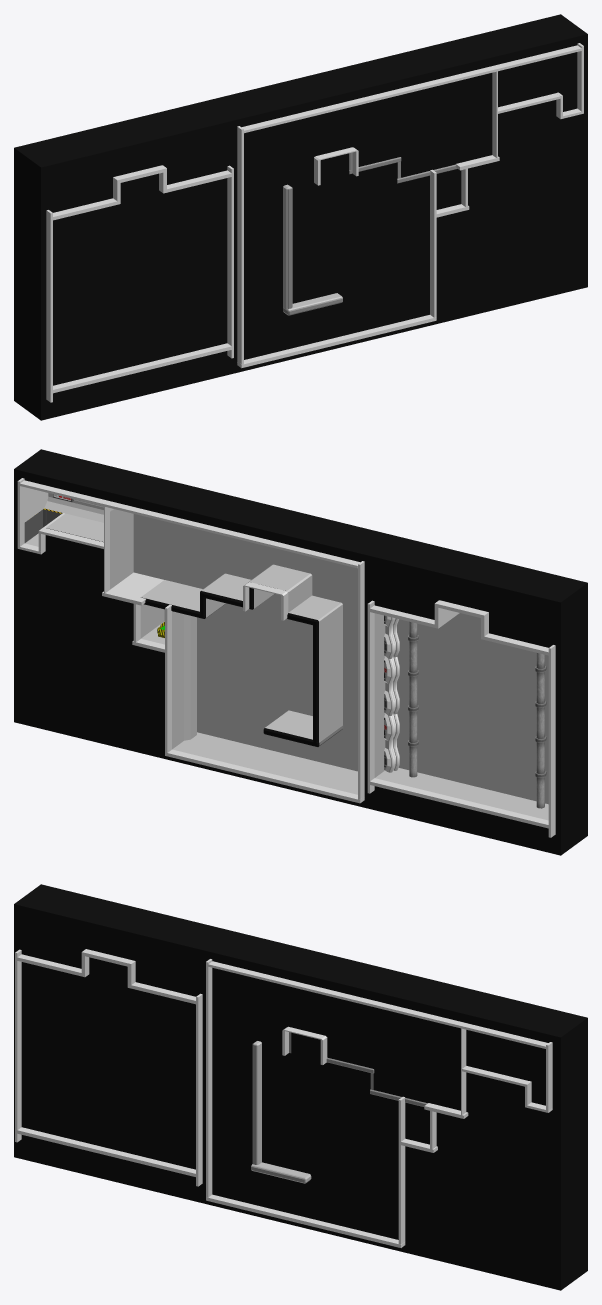
The model's file is Map_Level_3.FBX.
The picture shows the model from 3 angles, top to bottom: view 1: azimuth 30°, elevation 25°; view 2: azimuth 150°, elevation 25°; view 3: azimuth 330°, elevation 25°; orthographic projection.
Visible parts, largest first — view 1: Box066, Box084, Box087, Box092, Box094, Box093, Box095, Box067, Box088, Box068, Box096, Box097 (+1 smaller); view 2: Box066, Object038, Object039, Box067, Plane142, Box084, Box072, Box092, Box087, Box094, Box070, Box093 (+15 smaller); view 3: Box066, Box084, Box087, Box092, Box094, Box095, Box093, Box067, Box088, Box068, Box096, Box097.
Boxes of the visible parts, x1=… form: Box066: x1=14, y1=14, x2=587, y2=420; Box084: x1=242, y1=45, x2=583, y2=133; Box087: x1=237, y1=126, x2=243, y2=364; Box092: x1=237, y1=315, x2=436, y2=368; Box094: x1=46, y1=343, x2=231, y2=393; Box093: x1=46, y1=210, x2=52, y2=402; Box095: x1=227, y1=165, x2=233, y2=358; Box067: x1=283, y1=184, x2=292, y2=309; Box088: x1=430, y1=169, x2=436, y2=317; Box068: x1=283, y1=293, x2=342, y2=315; Box096: x1=159, y1=170, x2=233, y2=193; Box097: x1=46, y1=198, x2=120, y2=220; Box066: x1=14, y1=449, x2=587, y2=855; Object038: x1=110, y1=509, x2=357, y2=794; Object039: x1=374, y1=613, x2=548, y2=820; Box067: x1=313, y1=604, x2=342, y2=745; Plane142: x1=24, y1=493, x2=103, y2=546; Box084: x1=20, y1=480, x2=359, y2=568; Box072: x1=248, y1=564, x2=312, y2=612; Box092: x1=165, y1=749, x2=364, y2=803; Box087: x1=358, y1=561, x2=364, y2=799; Box094: x1=370, y1=778, x2=555, y2=828; Box070: x1=141, y1=580, x2=225, y2=618; Box093: x1=548, y1=645, x2=555, y2=837; Box066: x1=14, y1=884, x2=587, y2=1290; Box084: x1=208, y1=961, x2=548, y2=1049; Box087: x1=206, y1=959, x2=212, y2=1197; Box092: x1=206, y1=1194, x2=405, y2=1247; Box094: x1=15, y1=1127, x2=202, y2=1177; Box095: x1=196, y1=993, x2=202, y2=1186; Box093: x1=15, y1=949, x2=21, y2=1142; Box067: x1=252, y1=1041, x2=261, y2=1164; Box088: x1=398, y1=1096, x2=405, y2=1244; Box068: x1=251, y1=1162, x2=311, y2=1183; Box096: x1=128, y1=982, x2=202, y2=1004; Box097: x1=15, y1=954, x2=89, y2=976.
Size of the model in its own units: 457 by 202 by 53.88.
